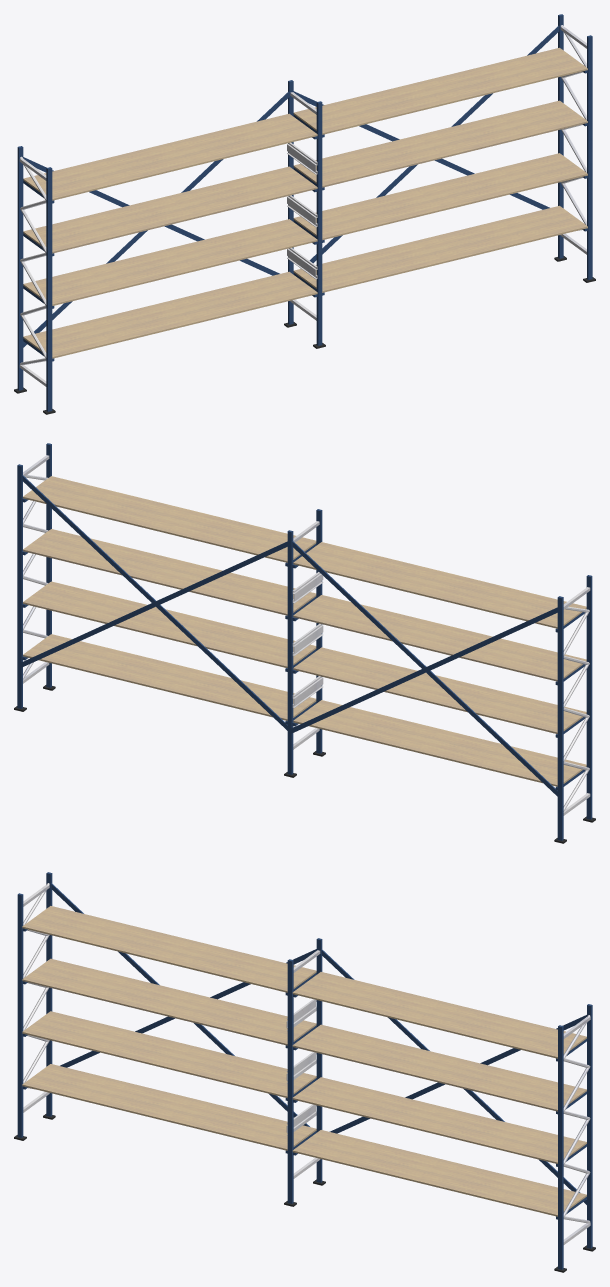
The model's file is BigShelves01.FBX.
The picture shows the model from 3 angles, top to bottom: view 1: azimuth 30°, elevation 25°; view 2: azimuth 150°, elevation 25°; view 3: azimuth 330°, elevation 25°; orthographic projection.
Visible parts, largest first — view 1: BigShelves01; view 2: BigShelves01; view 3: BigShelves01.
Part boxes in pixels (left/top/right/bottom): BigShelves01: left=14, top=14, right=595, bottom=414; BigShelves01: left=14, top=443, right=595, bottom=843; BigShelves01: left=14, top=872, right=595, bottom=1272.
Bounding box in the file's own units: 699 × 297 × 71.51.
